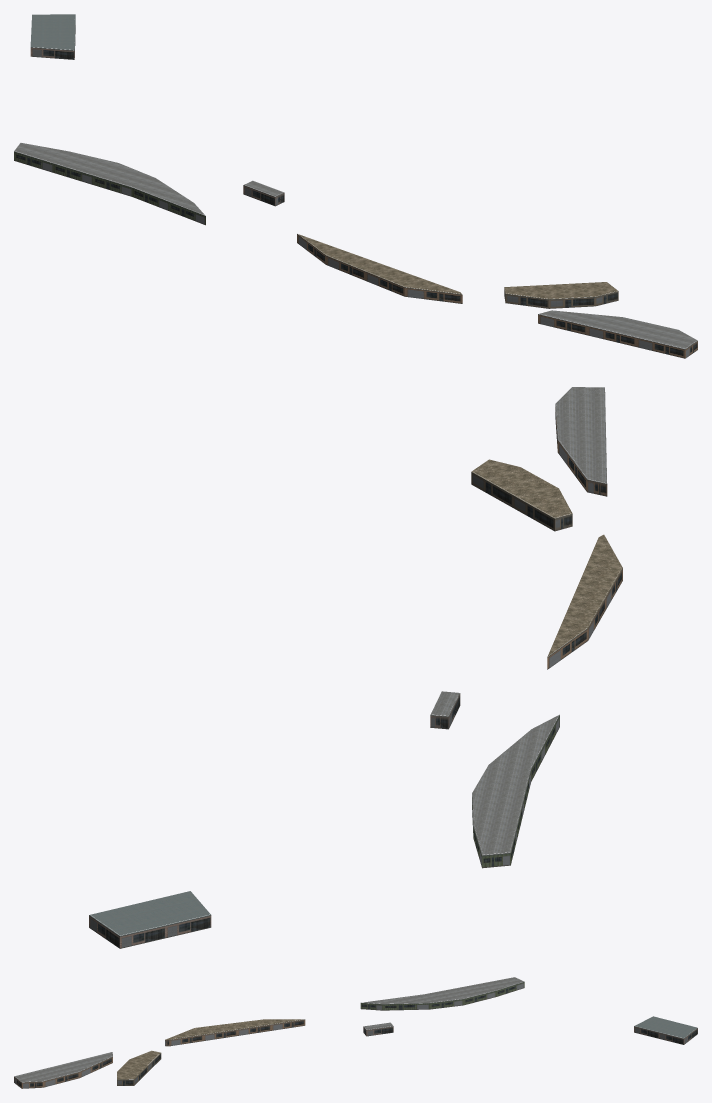
The picture shows the model from 3 angles, top to bottom: view 1: azimuth 30°, elevation 25°; view 2: azimuth 150°, elevation 25°; view 3: azimuth 270°, elevation 25°; orthographic projection. The views are drawn at different scales.
Visible parts, largest first — view 1: SlateRoof, BrickArcade, ConcreteRoof, Workshop, ZincRoof, RibbedFront, PanelArcade; view 2: SlateRoof, ConcreteRoof, ZincRoof, PanelArcade, BrickArcade, RibbedFront, Workshop; view 3: SlateRoof, BrickArcade, ConcreteRoof, Workshop, ZincRoof, PanelArcade, RibbedFront.
Part boxes in pixels (left/top/right/bottom): SlateRoof: left=14, top=143, right=697, bottom=349; BrickArcade: left=297, top=234, right=697, bottom=358; ConcreteRoof: left=298, top=234, right=618, bottom=299; Workshop: left=14, top=151, right=205, bottom=225; ZincRoof: left=30, top=14, right=75, bottom=50; RibbedFront: left=504, top=287, right=618, bottom=308; PanelArcade: left=30, top=25, right=284, bottom=206; SlateRoof: left=430, top=387, right=607, bottom=855; ConcreteRoof: left=471, top=459, right=622, bottom=656; ZincRoof: left=89, top=891, right=210, bottom=936; PanelArcade: left=89, top=693, right=460, bottom=948; BrickArcade: left=547, top=407, right=622, bottom=669; RibbedFront: left=471, top=472, right=572, bottom=531; Workshop: left=472, top=715, right=559, bottom=868; SlateRoof: left=14, top=977, right=524, bottom=1082; BrickArcade: left=14, top=1019, right=305, bottom=1088; ConcreteRoof: left=117, top=1019, right=303, bottom=1079; Workshop: left=360, top=982, right=524, bottom=1010; ZincRoof: left=634, top=1016, right=697, bottom=1038; PanelArcade: left=363, top=1026, right=697, bottom=1044; RibbedFront: left=117, top=1053, right=161, bottom=1085.
Bounding box in the file's own units: 107 × 3.12 × 294.
Materials: 7 (7 with a texture image).
